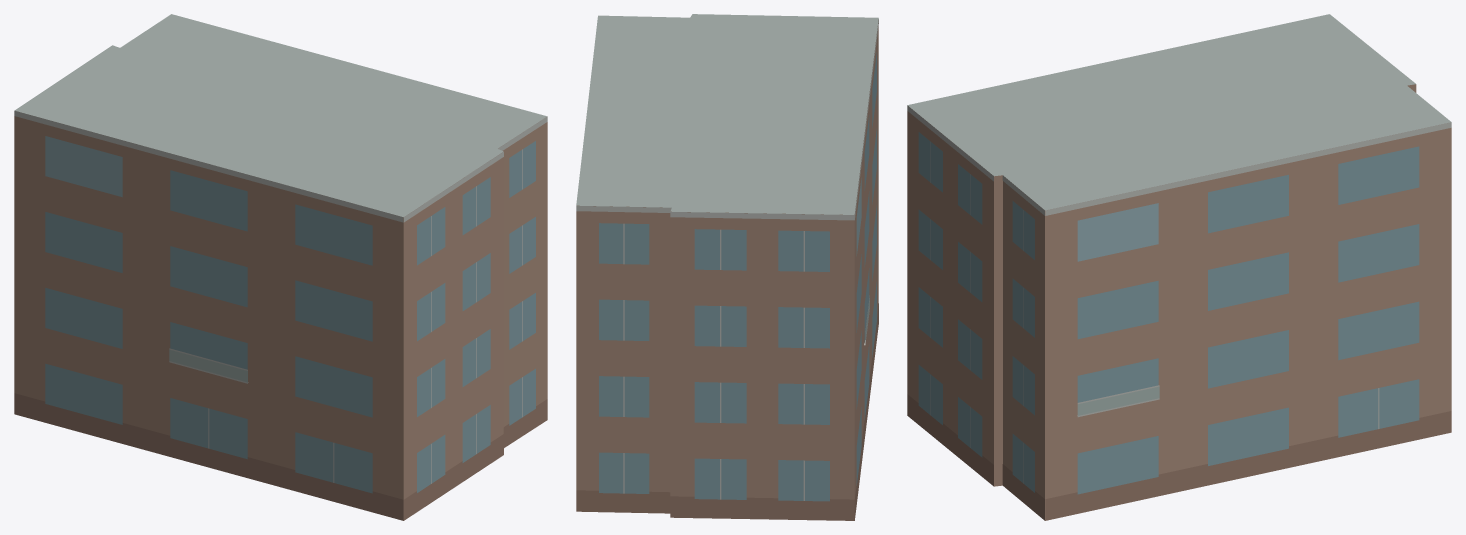
The model's file is survey-upis-32826726.glb.
3 views of the same model, side by side, from view 1: azimuth 30°, elevation 25°; view 2: azimuth 150°, elevation 25°; view 3: azimuth 270°, elevation 25° (orthographic). The views are drawn at different scales.
Parts seen in each view (by area): view 1: survey-upis-32826726.tmp; view 2: survey-upis-32826726.tmp; view 3: survey-upis-32826726.tmp.
Part boxes in pixels (left/top/right/bottom): survey-upis-32826726.tmp: left=14, top=14, right=547, bottom=520; survey-upis-32826726.tmp: left=576, top=14, right=878, bottom=520; survey-upis-32826726.tmp: left=907, top=14, right=1451, bottom=520.
Size of the model in its own units: 18.57 by 13.67 by 21.74.
